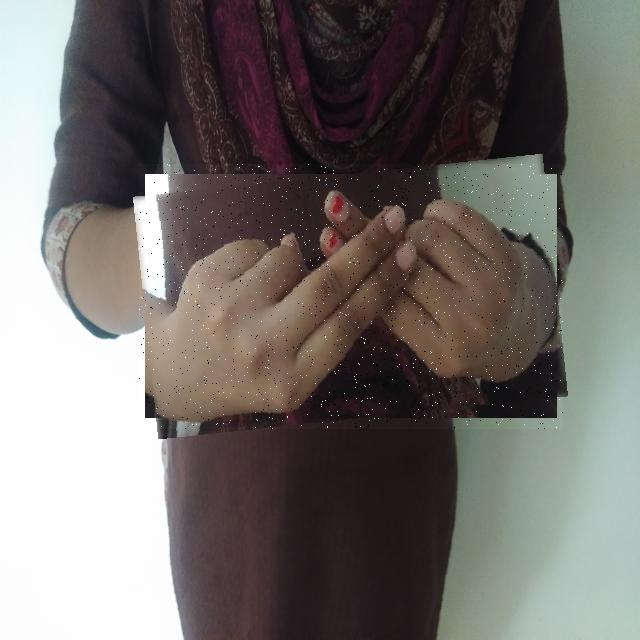F: (139, 164, 563, 429)
